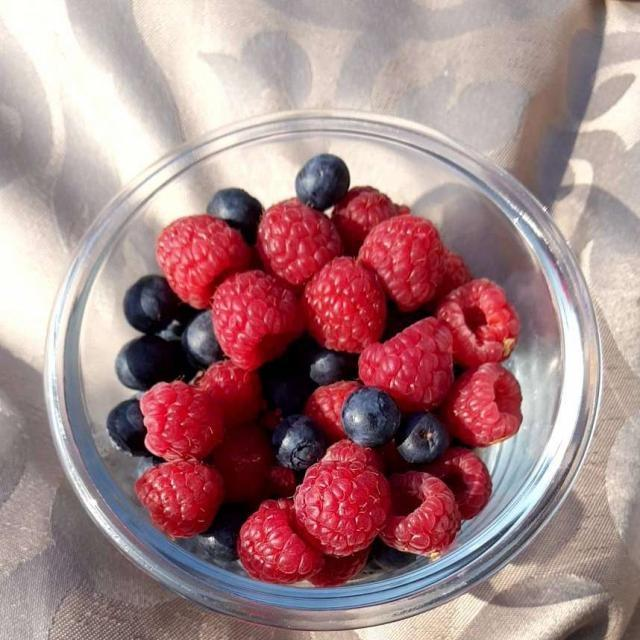raspberries: (126, 173, 505, 569)
